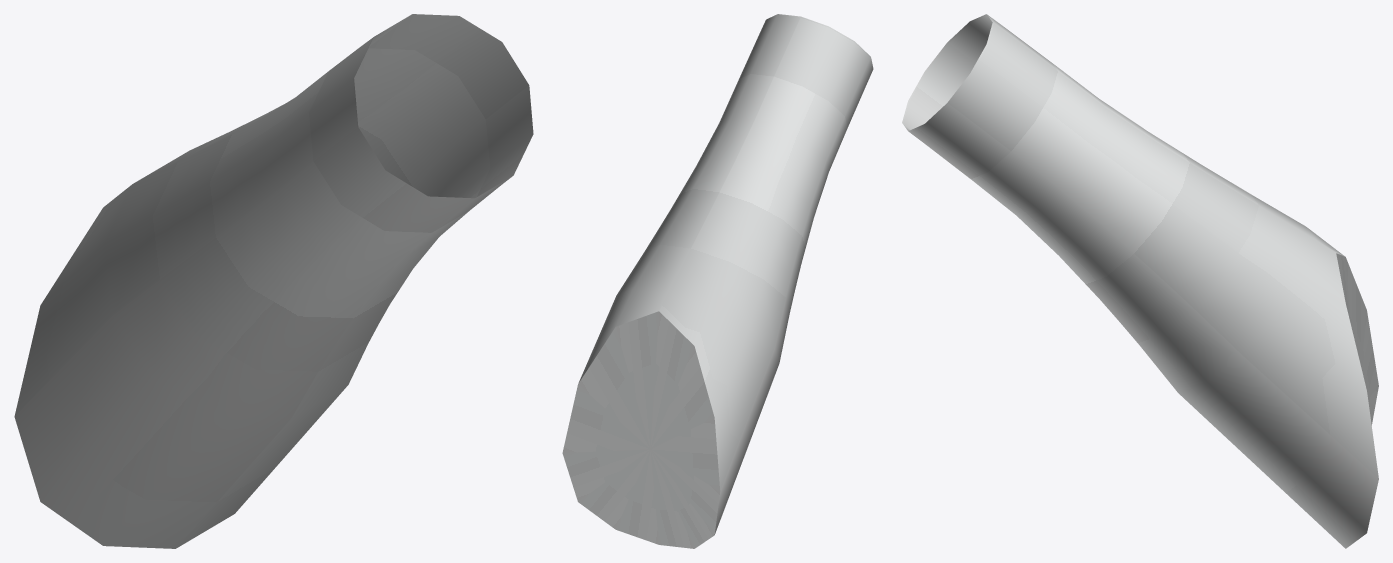
The model's file is luminairearm_caltrans8ftdouble_c5_thin.obj.
The picture shows the model from 3 angles, left to right: view 1: azimuth 30°, elevation 25°; view 2: azimuth 150°, elevation 25°; view 3: azimuth 270°, elevation 25°; orthographic projection. The views are drawn at different scales.
Parts seen in each view (by area): view 1: luminairearm_caltrans8ftdouble_c5_thin; view 2: luminairearm_caltrans8ftdouble_c5_thin; view 3: luminairearm_caltrans8ftdouble_c5_thin.
Part boxes in pixels (x1=…): luminairearm_caltrans8ftdouble_c5_thin: x1=14, y1=14, x2=533, y2=548; luminairearm_caltrans8ftdouble_c5_thin: x1=562, y1=14, x2=873, y2=548; luminairearm_caltrans8ftdouble_c5_thin: x1=902, y1=14, x2=1378, y2=548.
Size of the model in its own units: 0.3375 by 0.8676 by 0.7303.
